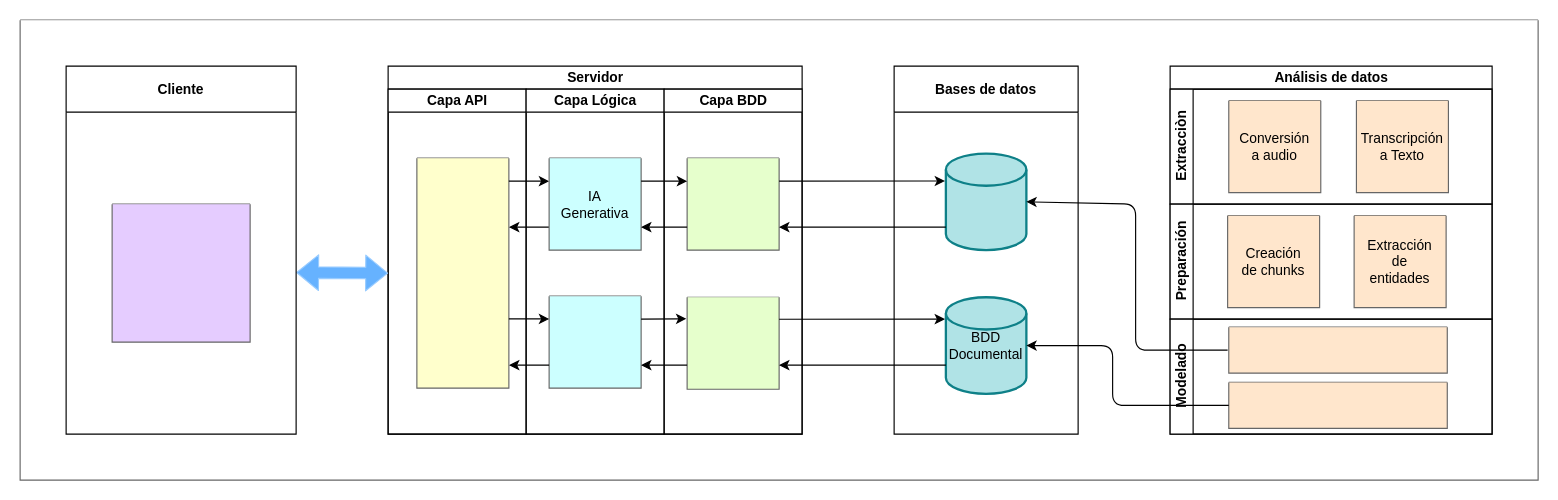
The diagram is 1558 pixels wide and 500 high, and some of its shapes have lost their labels. Each missing label, with the centre of its shape:
Acciones BDD Documental: the point at 732,342
Acciones BDD Vectorial: the point at 732,203
Aplicación cliente: the point at 180,272
BDD Vectorial: the point at 985,201
Búsqueda de metadata: the point at 594,341
Embedding de texto: the point at 1337,349
Estructuración de metadata: the point at 1337,404
Servicio Web: the point at 462,272
